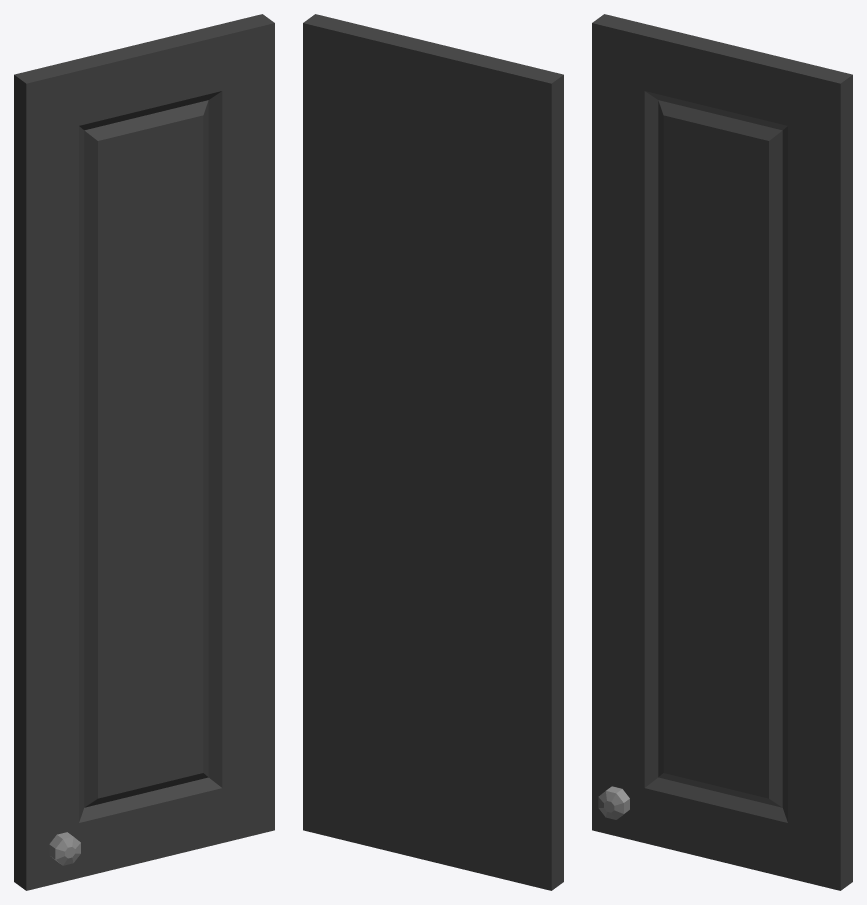
Rendered from Door3_C3_13.fbx.
3 renders of one model, left to right at view 1: azimuth 30°, elevation 25°; view 2: azimuth 150°, elevation 25°; view 3: azimuth 330°, elevation 25°, orthographic.
Visible parts, largest first — view 1: Door3_C3_13; view 2: Door3_C3_13; view 3: Door3_C3_13.
Part boxes in pixels (x1,y1,x2,y2): Door3_C3_13: (14,14,274,890); Door3_C3_13: (303,14,563,890); Door3_C3_13: (592,14,852,890).
Size of the model in its own units: 29 by 90 by 5.19.
